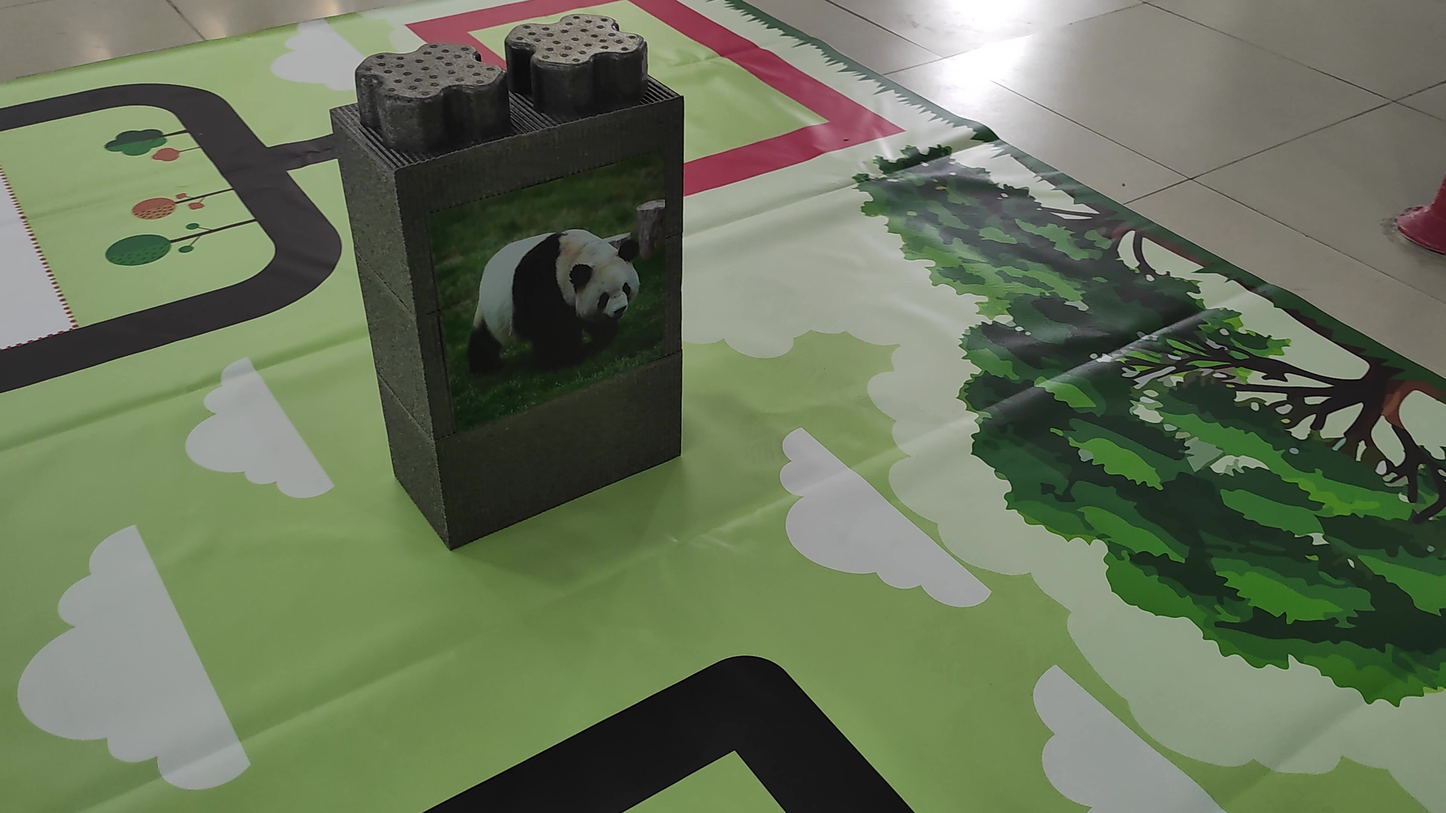panda: (428, 206, 655, 384)
